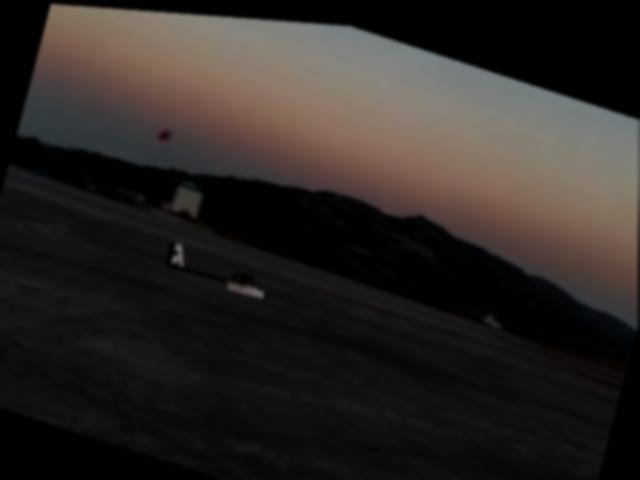uav: (157, 229, 277, 303)
